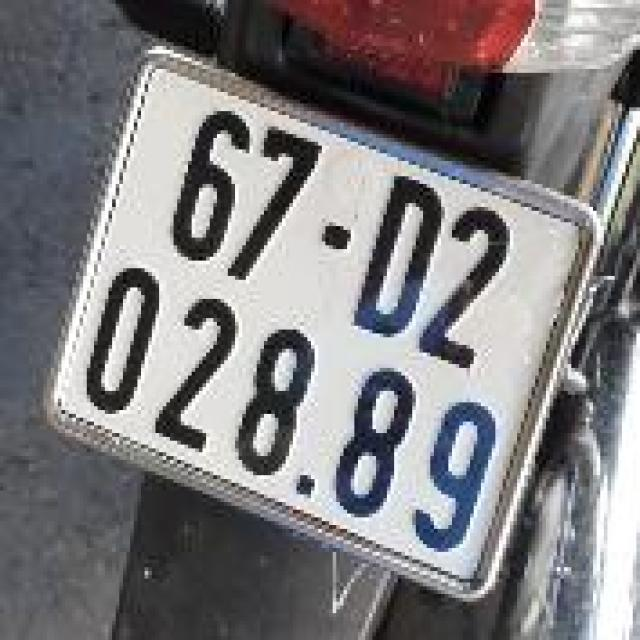0: (72, 251, 171, 432)
2: (406, 193, 527, 384), (146, 284, 255, 469)
6: (157, 95, 263, 276)
7: (216, 116, 333, 303)
8: (223, 314, 327, 492), (323, 354, 423, 531)
9: (401, 388, 505, 566)
D: (341, 162, 458, 355)
